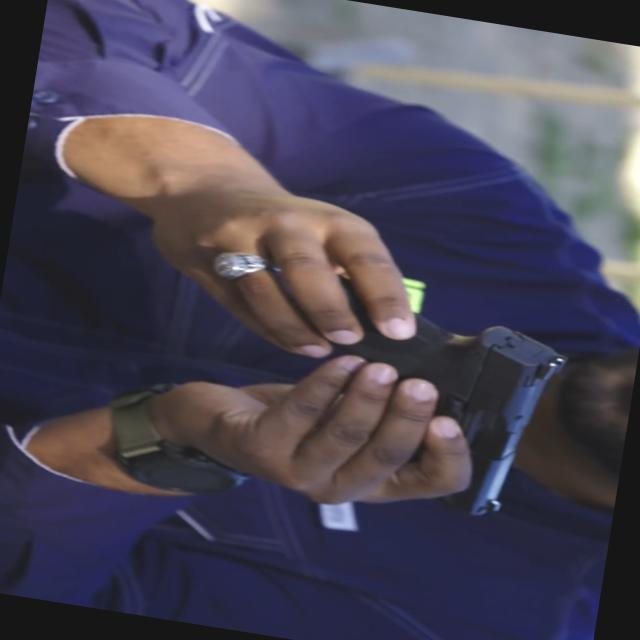handgun: (248, 270, 588, 550)
